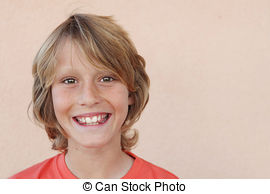face: (24, 5, 151, 153)
